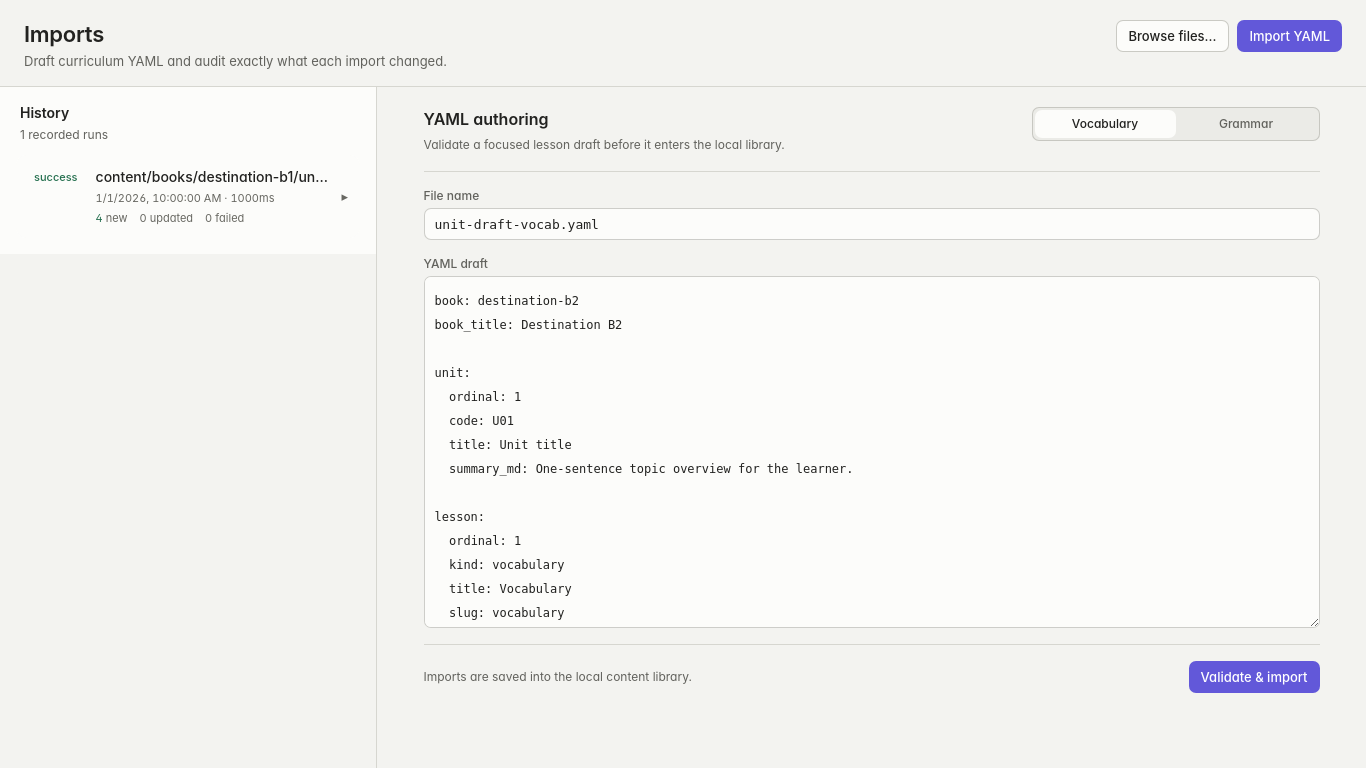
Test: TutorImports › expands a row to show item details on click
Click the button that starts with "success" at coordinates (188, 197), box [16,155,360,238]
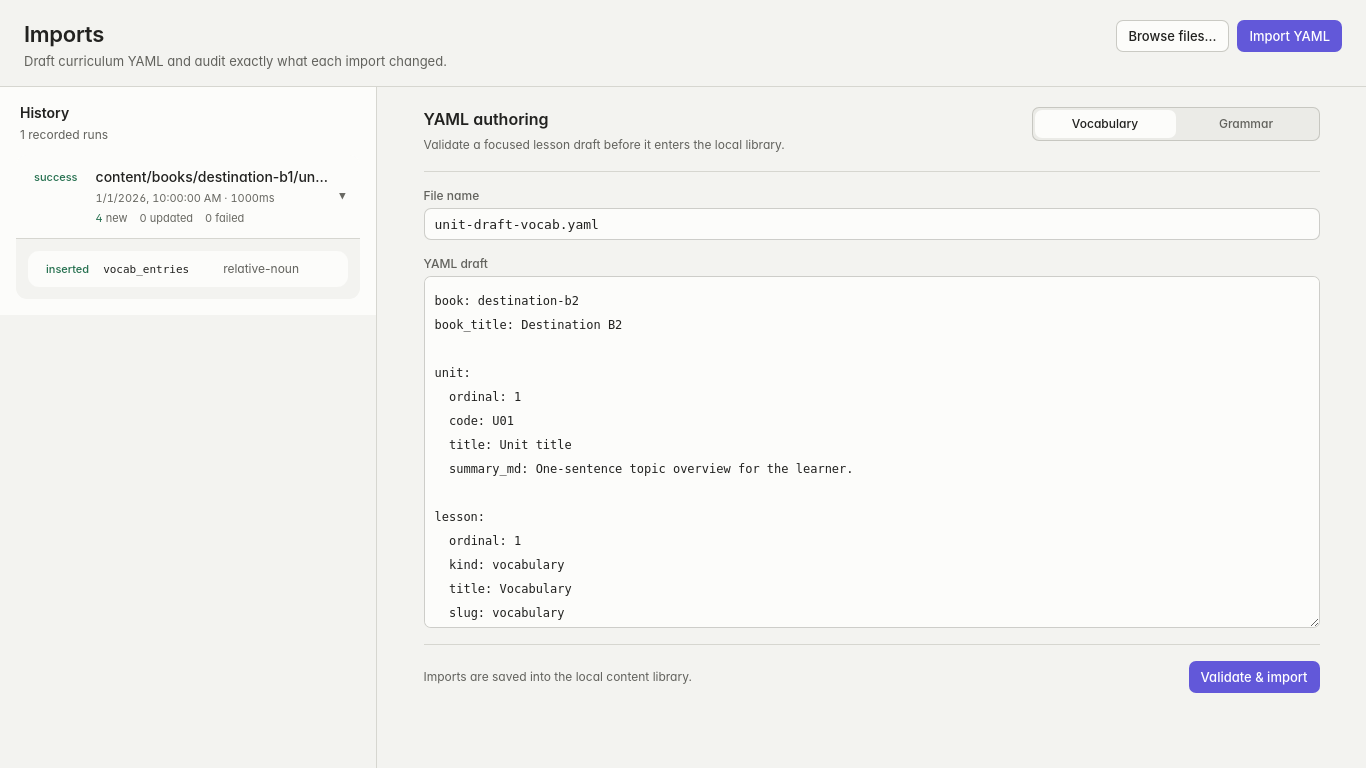
Check: the text "relative-noun" is shown, box [223,261,299,276]
Check: the text "inserted" is shown, box [46,262,89,276]
